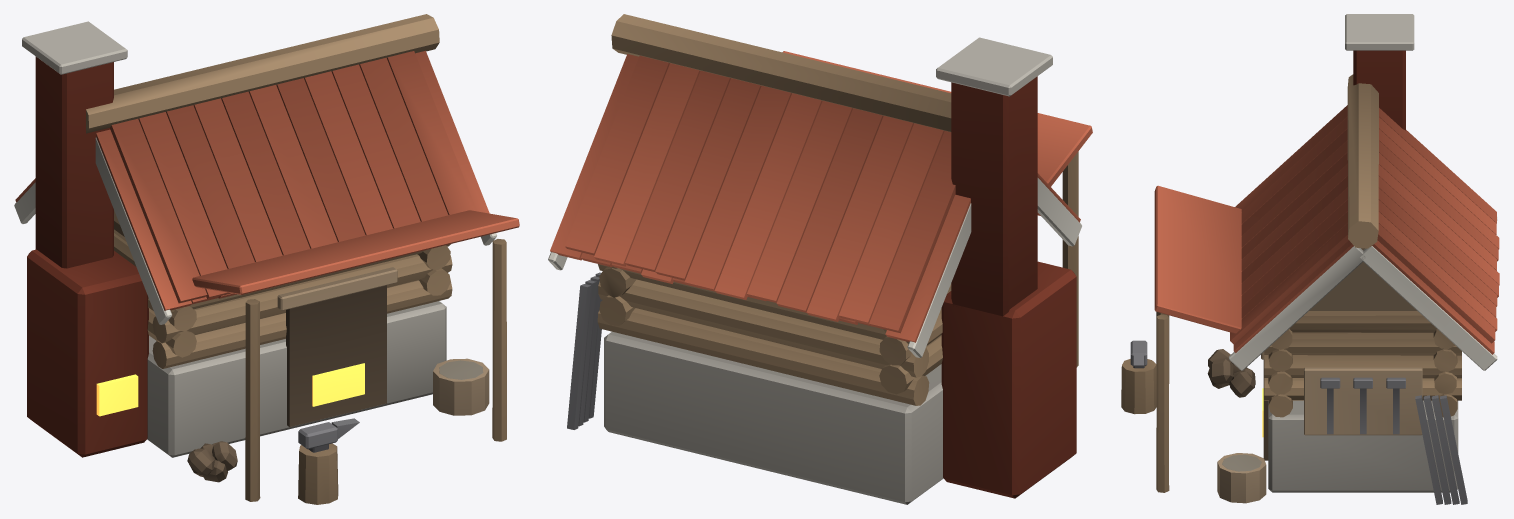
File: bld_kuznica_e1.glb
3 views of the same model, side by side, from view 1: azimuth 30°, elevation 25°; view 2: azimuth 150°, elevation 25°; view 3: azimuth 270°, elevation 25° (orthographic). The views are drawn at different scales.
Visible parts, largest first — view 1: kuznica; view 2: kuznica; view 3: kuznica.
Boxes of the visible parts, x1,y1,x2,y2 form: kuznica: (14, 14, 519, 504); kuznica: (548, 14, 1092, 504); kuznica: (1121, 14, 1499, 504).
Bounding box in the file's own units: 1.18 × 1.13 × 1.15.
